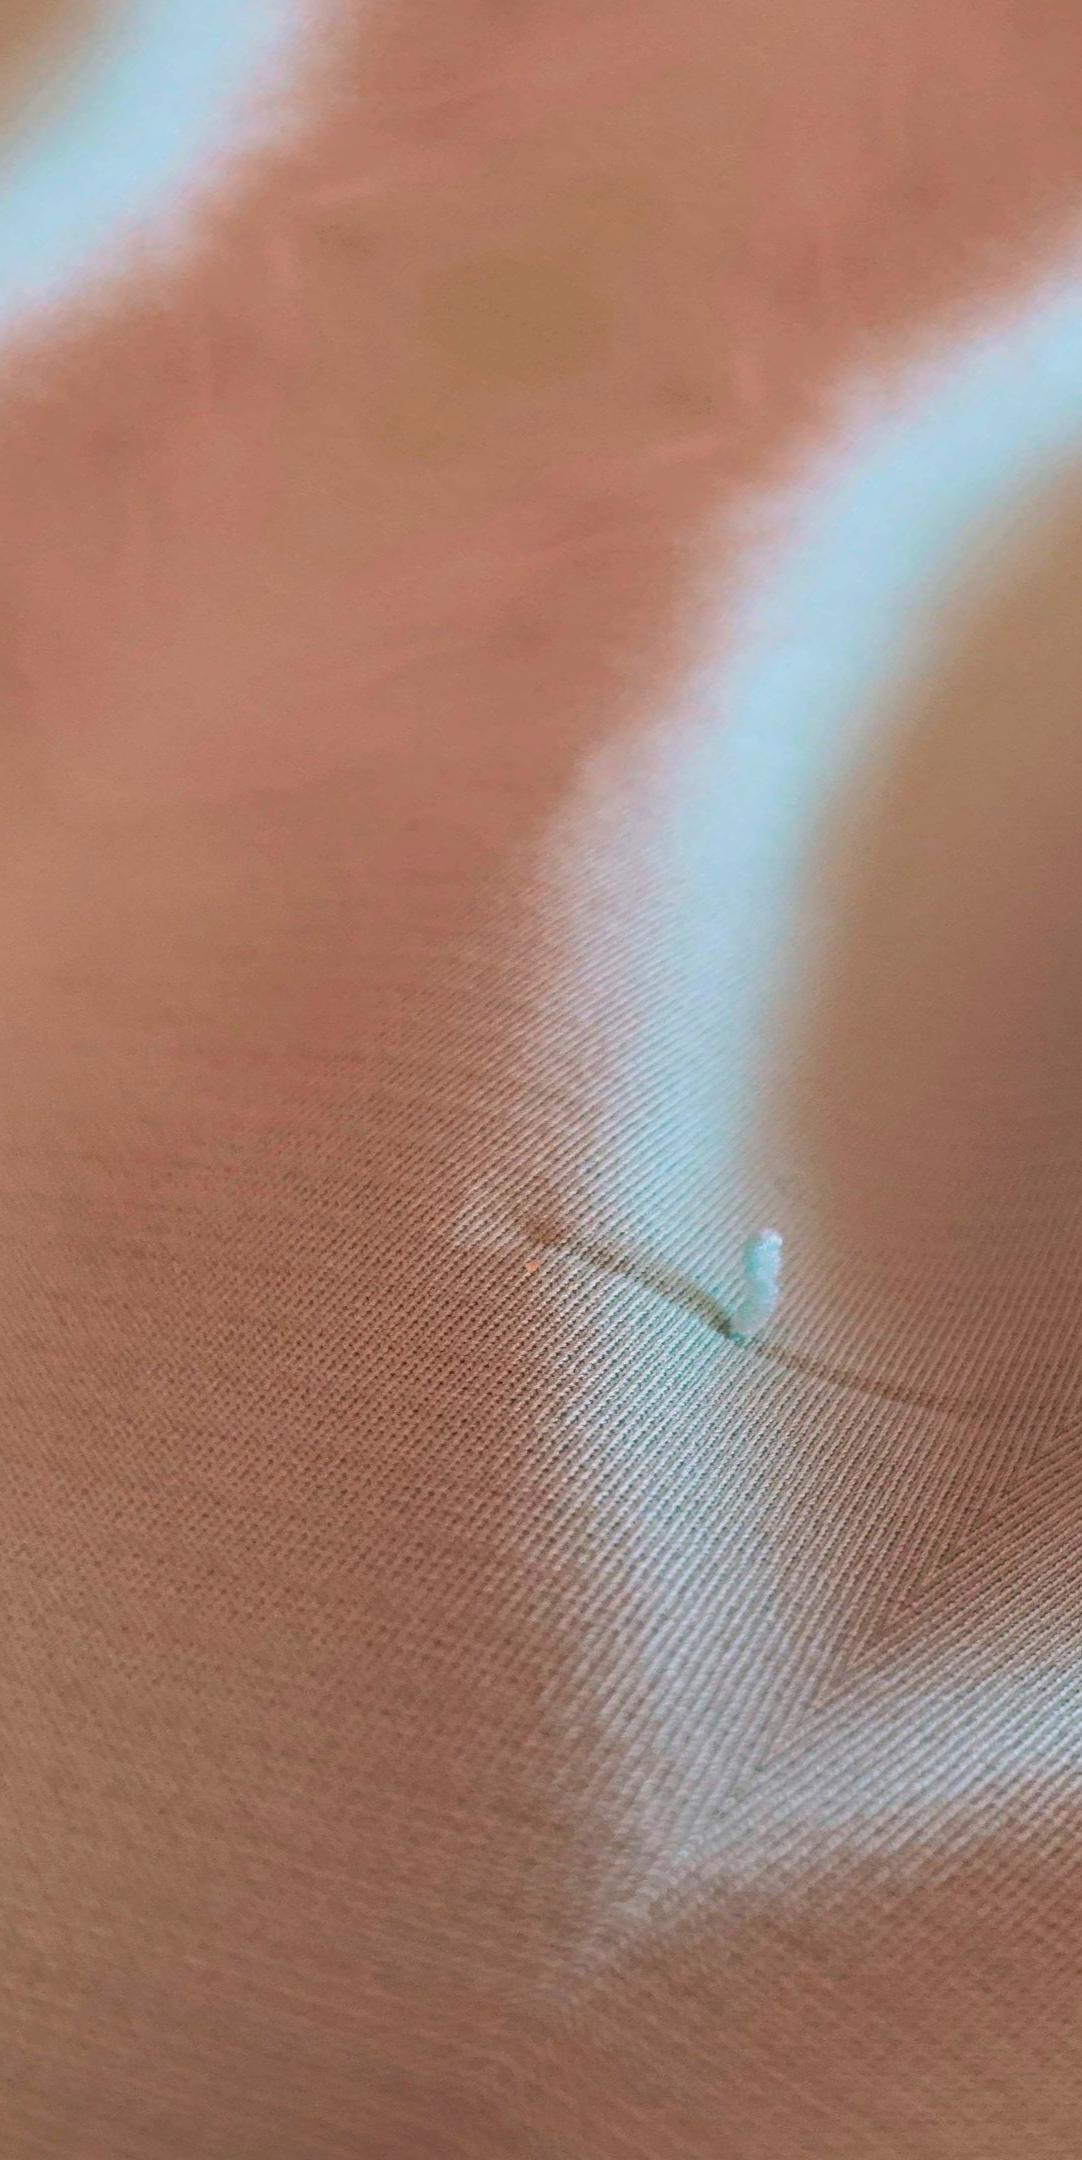snag: (647, 1145, 857, 1417)
